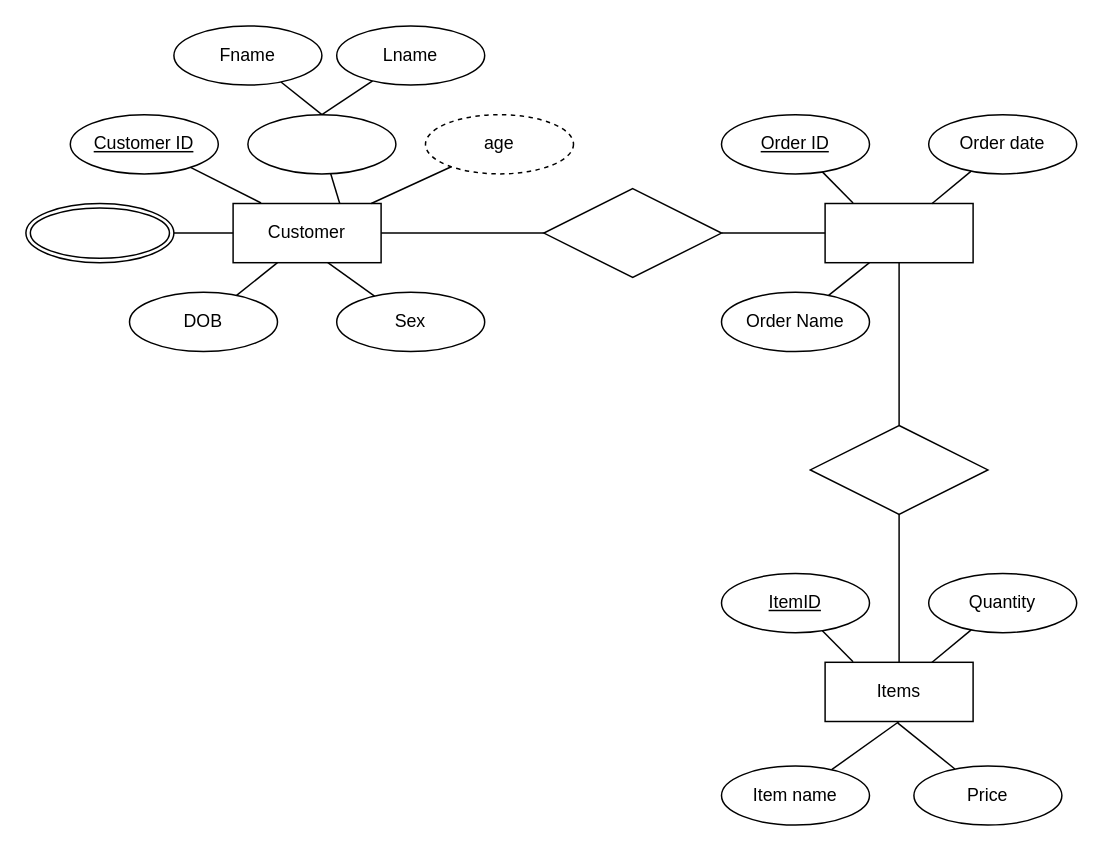
This 1103x851 diagram has some shape labels left out. The box of each missing label's shape, as (x1, y1, x2, y2) in pixels:
Contains: (809, 424, 988, 514)
mobile no: (24, 202, 174, 263)
Name: (246, 113, 396, 174)
Order: (824, 202, 973, 263)
place: (542, 187, 722, 278)
